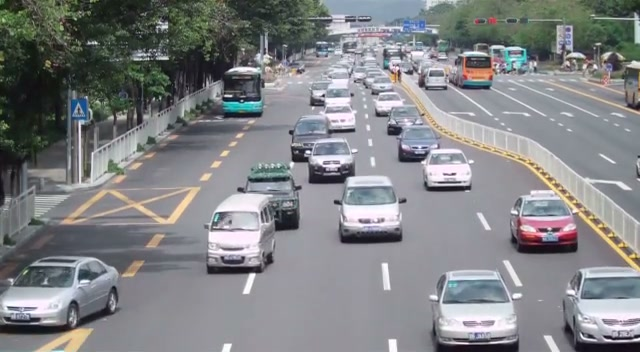bus: (222, 67, 264, 117), (450, 51, 494, 88)
car: (0, 256, 121, 330), (428, 269, 521, 352), (561, 266, 640, 352), (203, 191, 277, 274), (333, 175, 406, 243), (509, 191, 579, 254), (239, 162, 302, 229), (420, 147, 474, 192), (307, 138, 356, 183), (290, 114, 332, 161), (397, 125, 441, 162), (386, 105, 423, 136), (324, 103, 356, 133), (374, 92, 405, 117), (423, 68, 448, 91), (635, 155, 640, 179)
truck: (622, 61, 640, 109)
